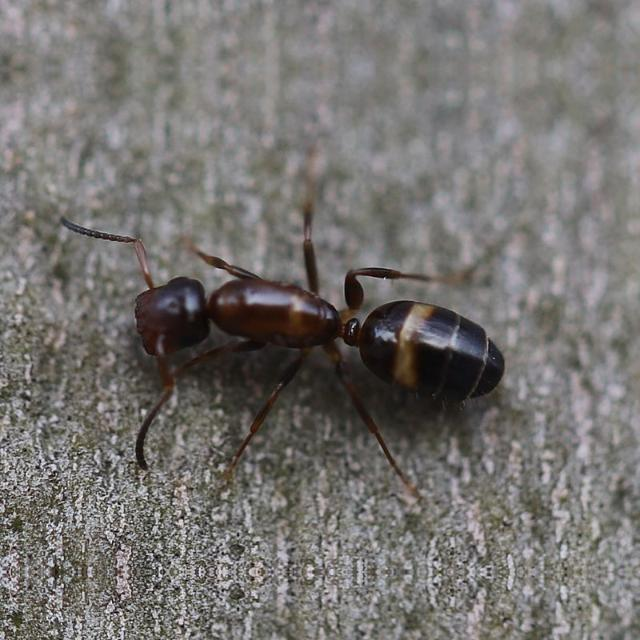Colobopsis: (74, 200, 536, 442)
